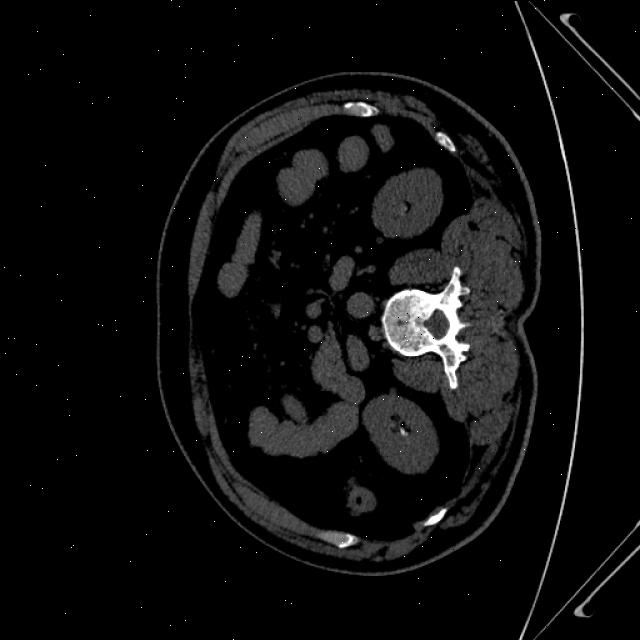kidneystone: (400, 426, 409, 436)
